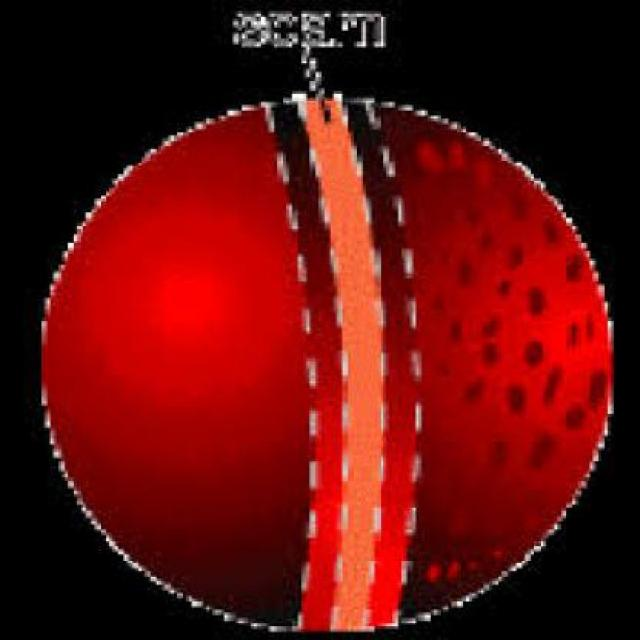ball: (29, 76, 636, 640)
